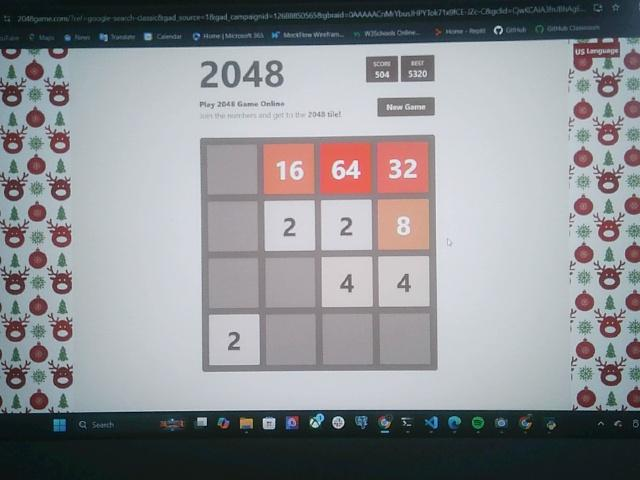board: (202, 137, 436, 370)
tile: (376, 142, 429, 194), (321, 199, 373, 252), (320, 143, 371, 194), (378, 256, 429, 307), (265, 143, 315, 195), (379, 199, 429, 251), (323, 256, 373, 308), (209, 315, 259, 366), (266, 201, 315, 251)
